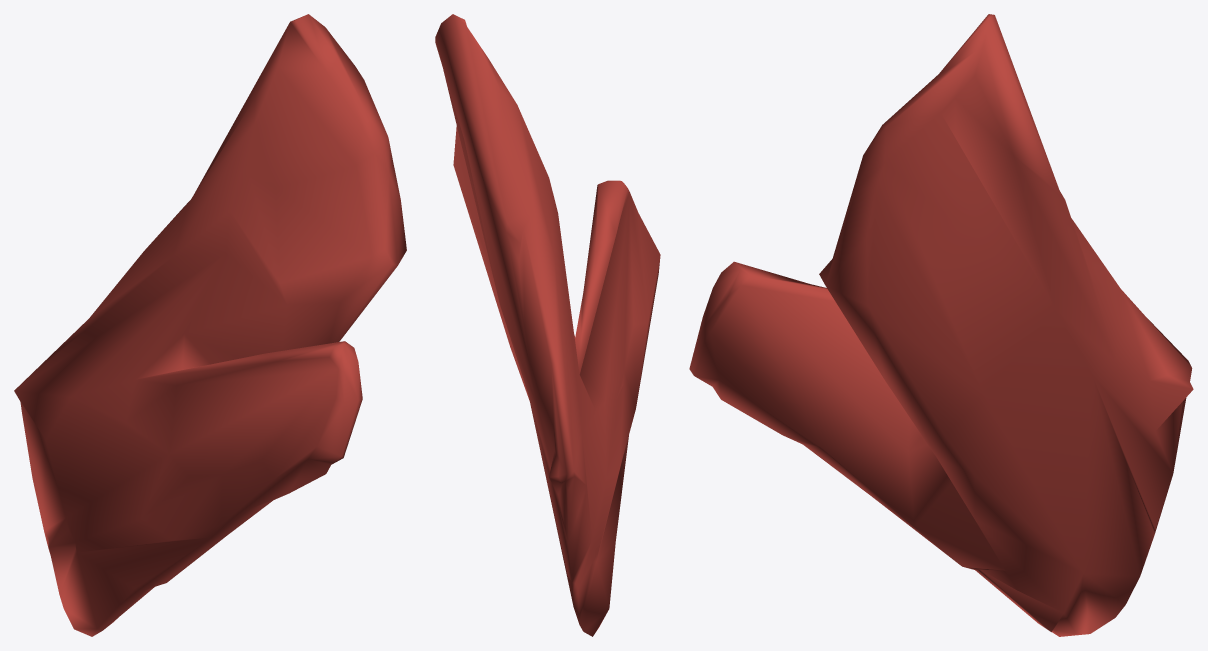
The model's file is musculos-medial-pterygoid-muscle-r.glb.
3 renders of one model, left to right at view 1: azimuth 30°, elevation 25°; view 2: azimuth 150°, elevation 25°; view 3: azimuth 270°, elevation 25°, orthographic. The views are drawn at different scales.
Parts seen in each view (by area): view 1: Medial pterygoid muscle.r; view 2: Medial pterygoid muscle.r; view 3: Medial pterygoid muscle.r.
Part boxes in pixels (<box>): Medial pterygoid muscle.r: <box>14,14,406,636</box>; Medial pterygoid muscle.r: <box>435,14,660,636</box>; Medial pterygoid muscle.r: <box>689,14,1193,636</box>.
Size of the model in its own units: 0.0225 by 0.0491 by 0.0307.
